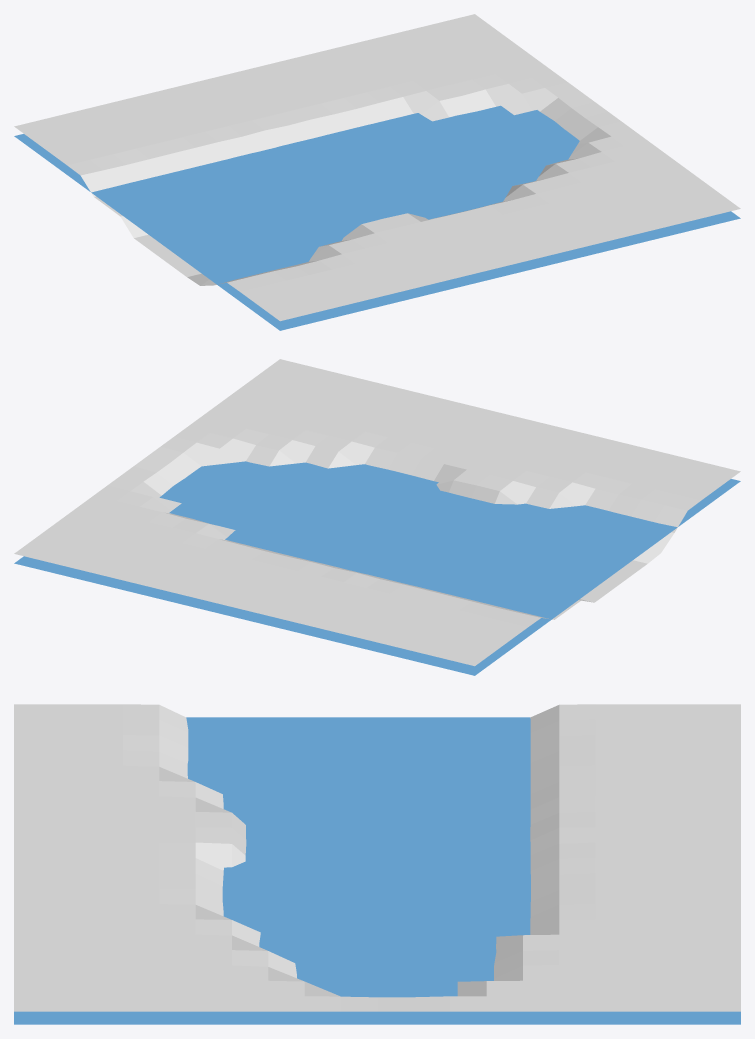
The model's file is River1-3.fbx.
3 views of the same model, one above another, from view 1: azimuth 30°, elevation 25°; view 2: azimuth 150°, elevation 25°; view 3: azimuth 270°, elevation 25° (orthographic). The views are drawn at different scales.
Parts seen in each view (by area): view 1: River1-3, RiverWater1-3; view 2: River1-3, RiverWater1-3; view 3: River1-3, RiverWater1-3.
Boxes of the visible parts, x1=… form: River1-3: x1=14, y1=14, x2=740, y2=321; RiverWater1-3: x1=14, y1=105, x2=740, y2=330; River1-3: x1=14, y1=359, x2=740, y2=666; RiverWater1-3: x1=14, y1=461, x2=740, y2=675; River1-3: x1=14, y1=704, x2=740, y2=1011; RiverWater1-3: x1=14, y1=717, x2=740, y2=1024.
Size of the model in its own units: 2000 by 100 by 2000.
